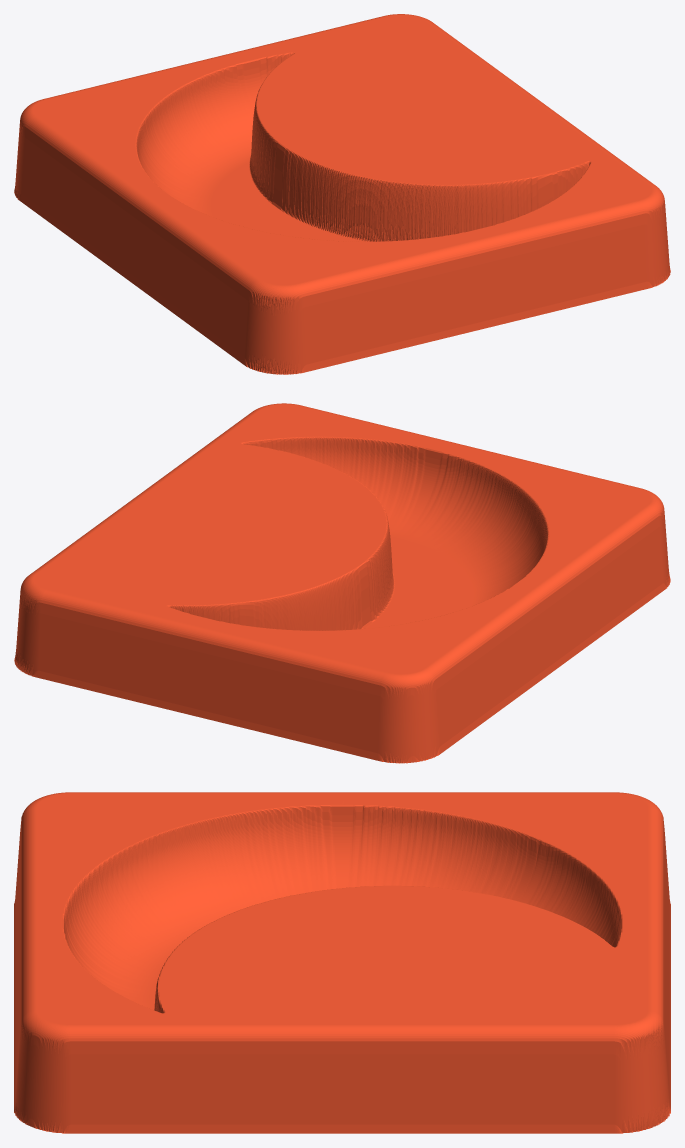
File: mold.glb
3 views of the same model, one above another, from view 1: azimuth 30°, elevation 25°; view 2: azimuth 150°, elevation 25°; view 3: azimuth 270°, elevation 25° (orthographic). The views are drawn at different scales.
Parts seen in each view (by area): view 1: geometry_0; view 2: geometry_0; view 3: geometry_0.
Boxes of the visible parts, bbox=[...] form: geometry_0: bbox=[14, 14, 670, 374]; geometry_0: bbox=[14, 403, 670, 763]; geometry_0: bbox=[14, 792, 670, 1133].
Size of the model in its own units: 0.0946 by 0.0175 by 0.105.
